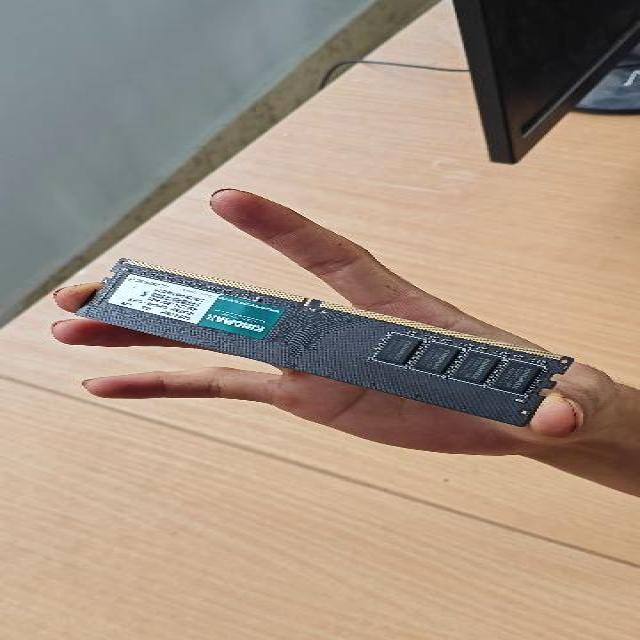RAM: (73, 256, 576, 426)
